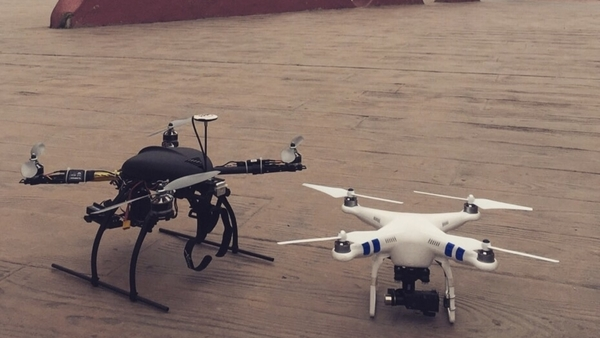drone: (18, 113, 307, 314), (276, 180, 561, 325)
